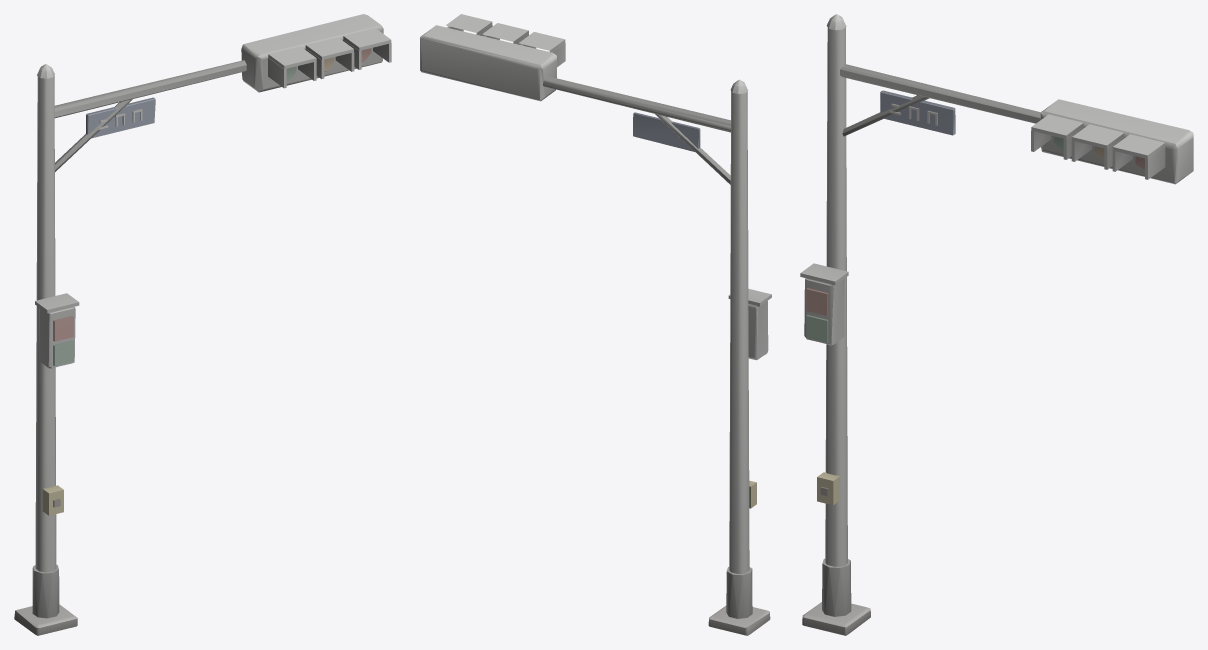
Rendered from signal.lod1.glb.
3 renders of one model, left to right at view 1: azimuth 30°, elevation 25°; view 2: azimuth 150°, elevation 25°; view 3: azimuth 330°, elevation 25°, orthographic. The views are drawn at different scales.
Bounding box in the file's own units: 3.25 × 4.99 × 0.6755.
